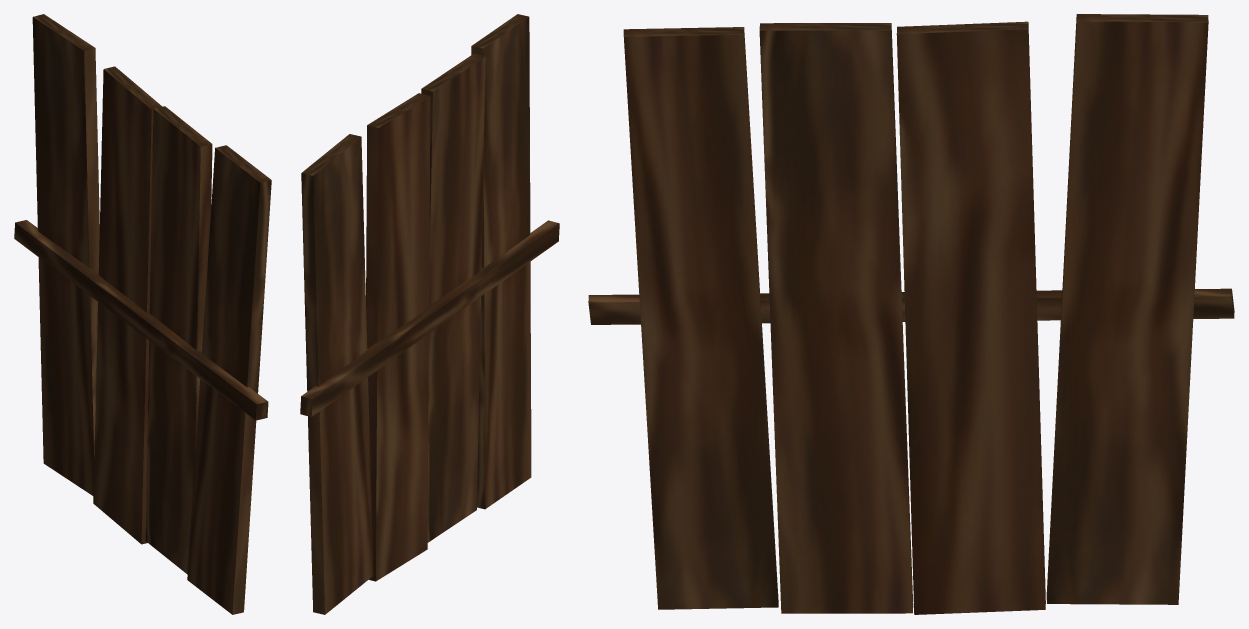
File: Cerca2.fbx
3 renders of one model, left to right at view 1: azimuth 30°, elevation 25°; view 2: azimuth 150°, elevation 25°; view 3: azimuth 270°, elevation 25°, orthographic. The views are drawn at different scales.
Visible parts, largest first — view 1: Fence1; view 2: Fence1; view 3: Fence1.
Part boxes in pixels (left/top/right/bottom): Fence1: left=14, top=14, right=271, bottom=614; Fence1: left=300, top=14, right=559, bottom=614; Fence1: left=588, top=14, right=1234, bottom=614.
Bounding box in the file's own units: 12.67 × 193 × 189.
